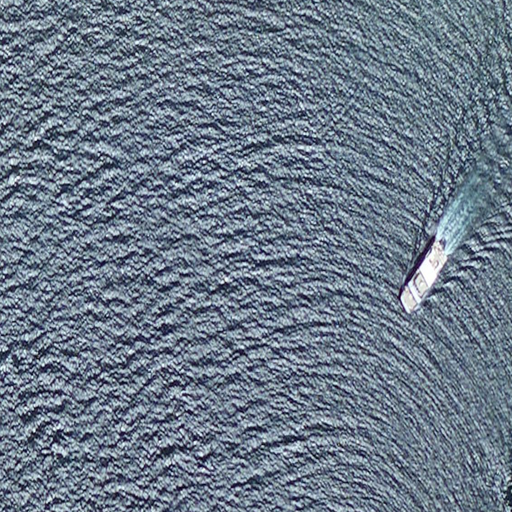ship: (394, 234, 451, 316)
